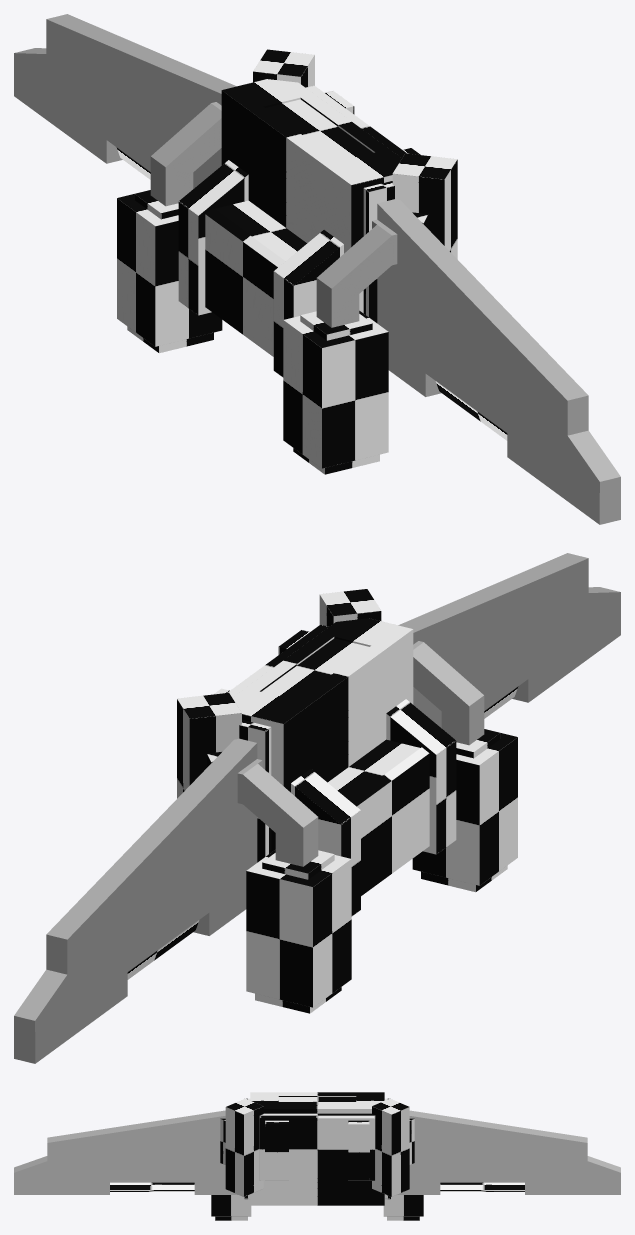
File: back.obj
3 views of the same model, one above another, from view 1: azimuth 30°, elevation 25°; view 2: azimuth 150°, elevation 25°; view 3: azimuth 270°, elevation 25° (orthographic). The views are drawn at different scales.
Visible parts, largest first — view 1: Box024, Box002, Box018; view 2: Box024, Box002, Box018; view 3: Box024, Box002, Box018.
Boxes of the visible parts, x1,y1,x2,y2 form: Box024: (14,14,620,524); Box002: (178,49,457,377); Box018: (117,102,397,474); Box024: (14,553,620,1063); Box002: (177,589,456,916); Box018: (237,641,517,1013); Box024: (14,1110,620,1194); Box002: (225,1092,409,1205); Box018: (211,1195,423,1220).
Bounding box in the file's own units: 20.35 × 29.79 × 124.
